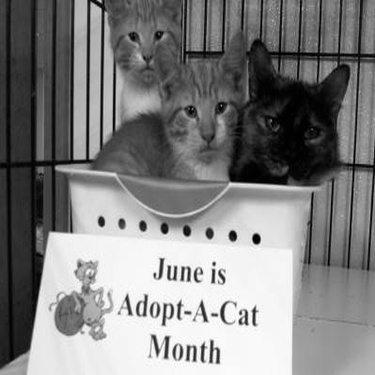cat: (76, 31, 246, 184), (237, 35, 355, 190), (91, 5, 189, 119)
